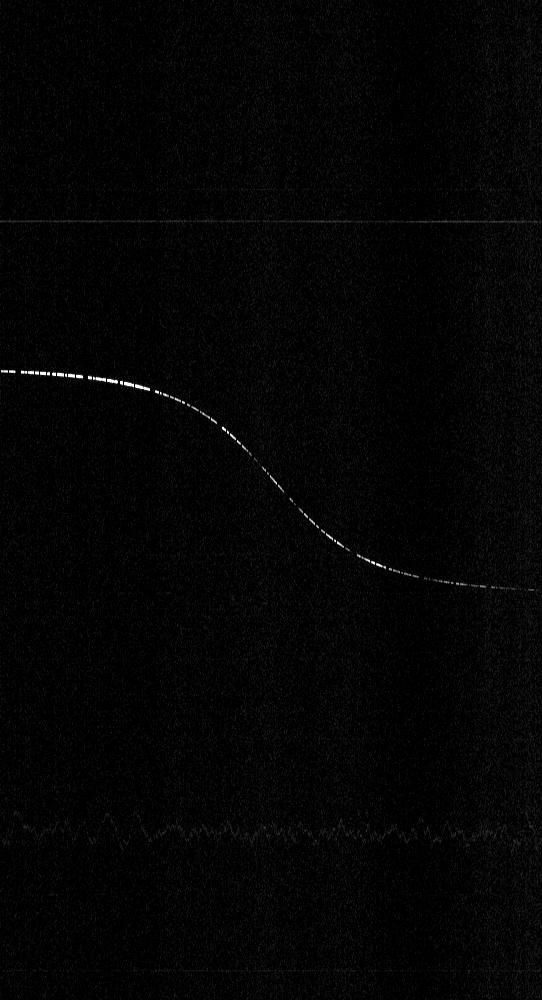signal: (0, 0, 541, 999)
